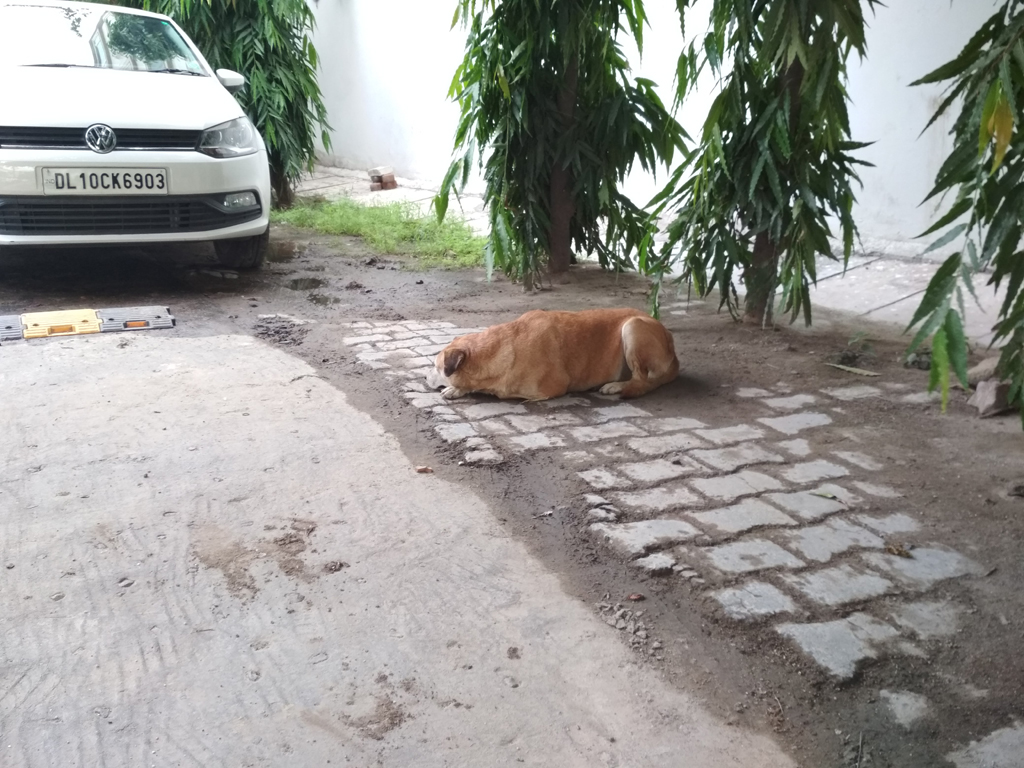dog: (425, 305, 679, 403)
